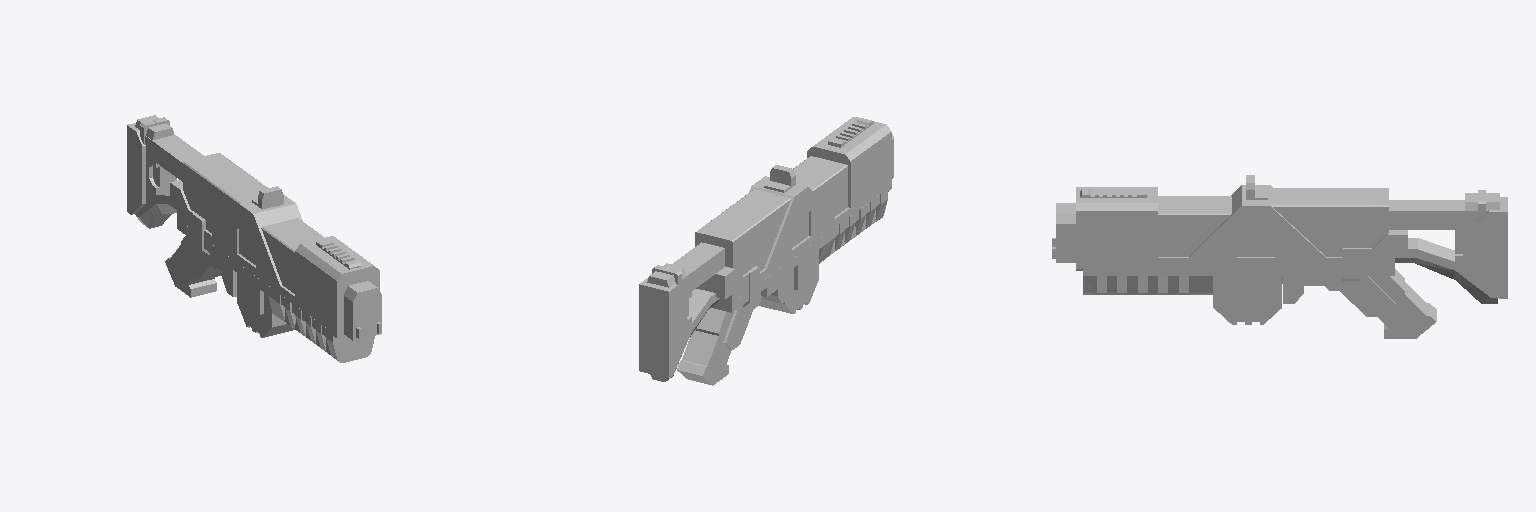
Rendered from laser_gun.obj.
The picture shows the model from 3 angles: view 1: azimuth 30°, elevation 25°; view 2: azimuth 150°, elevation 25°; view 3: azimuth 270°, elevation 25°; orthographic projection.
Parts seen in each view (by area): view 1: Laser_Rifle; view 2: Laser_Rifle; view 3: Laser_Rifle.
Part boxes in pixels (x1,y1,x2,y2): Laser_Rifle: (127,115,381,362); Laser_Rifle: (639,117,893,385); Laser_Rifle: (1052,175,1507,338).
Bounding box in the file's own units: 8.29 × 26.82 × 72.09.